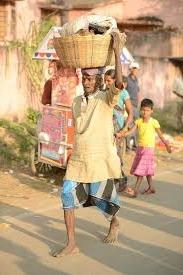Human: (53, 64, 121, 258), (130, 94, 160, 194)
